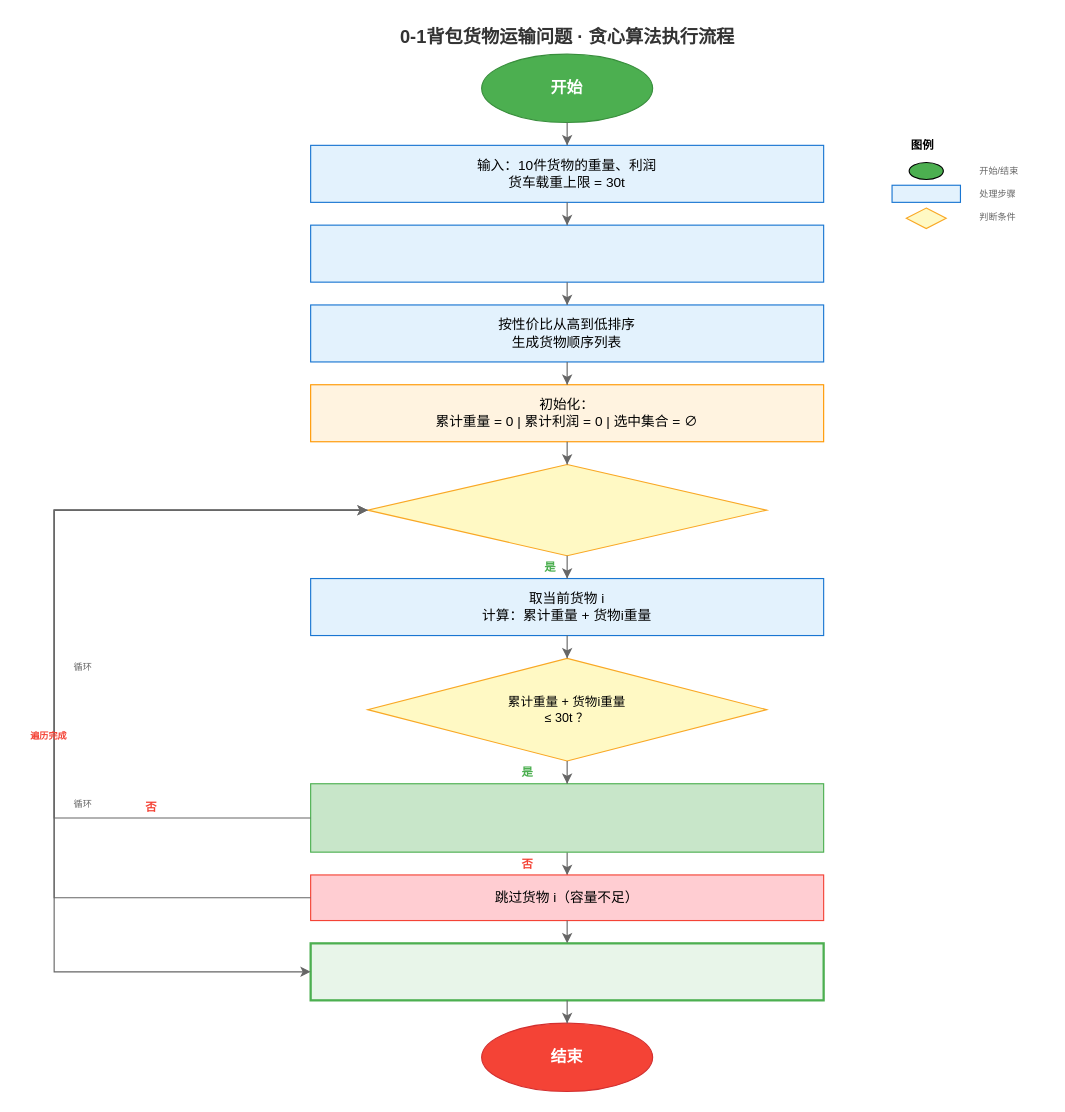
The diagram is 1065 pixels wide and 1112 high, and some of its shapes have lost their labels. Here are the shapes that lost their labels. From the top down, the box of each, then its label:
(310, 224, 824, 282): 计算每件货物的 单位重量利润（性价比）= 利润 ÷ 重量
(367, 463, 767, 556): 遍历下一件货物 是否还有未处理货物？
(310, 783, 824, 852): 选中货物 i 累计重量 += 货物i重量 累计利润 += 货物i利润
(309, 942, 824, 1001): 输出： 选中货物清单、总重量、总利润
